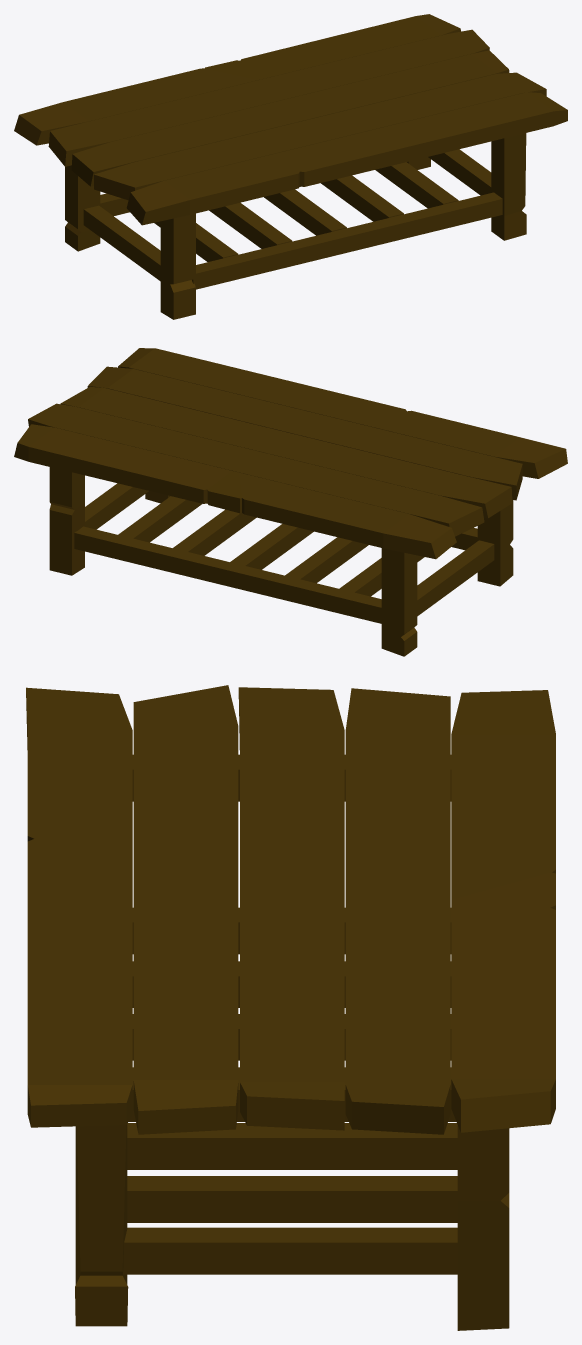
Rendered from table.glb.
The picture shows the model from 3 angles, top to bottom: view 1: azimuth 30°, elevation 25°; view 2: azimuth 150°, elevation 25°; view 3: azimuth 270°, elevation 25°; orthographic projection. The views are drawn at different scales.
Visible parts, largest first — view 1: Cube; view 2: Cube; view 3: Cube.
Part boxes in pixels (box(x1,y1,x2,y2)): Cube: box(14, 14, 567, 319); Cube: box(14, 348, 567, 656); Cube: box(26, 685, 555, 1330).
Size of the model in its own units: 4.96 by 1.42 by 2.62.
